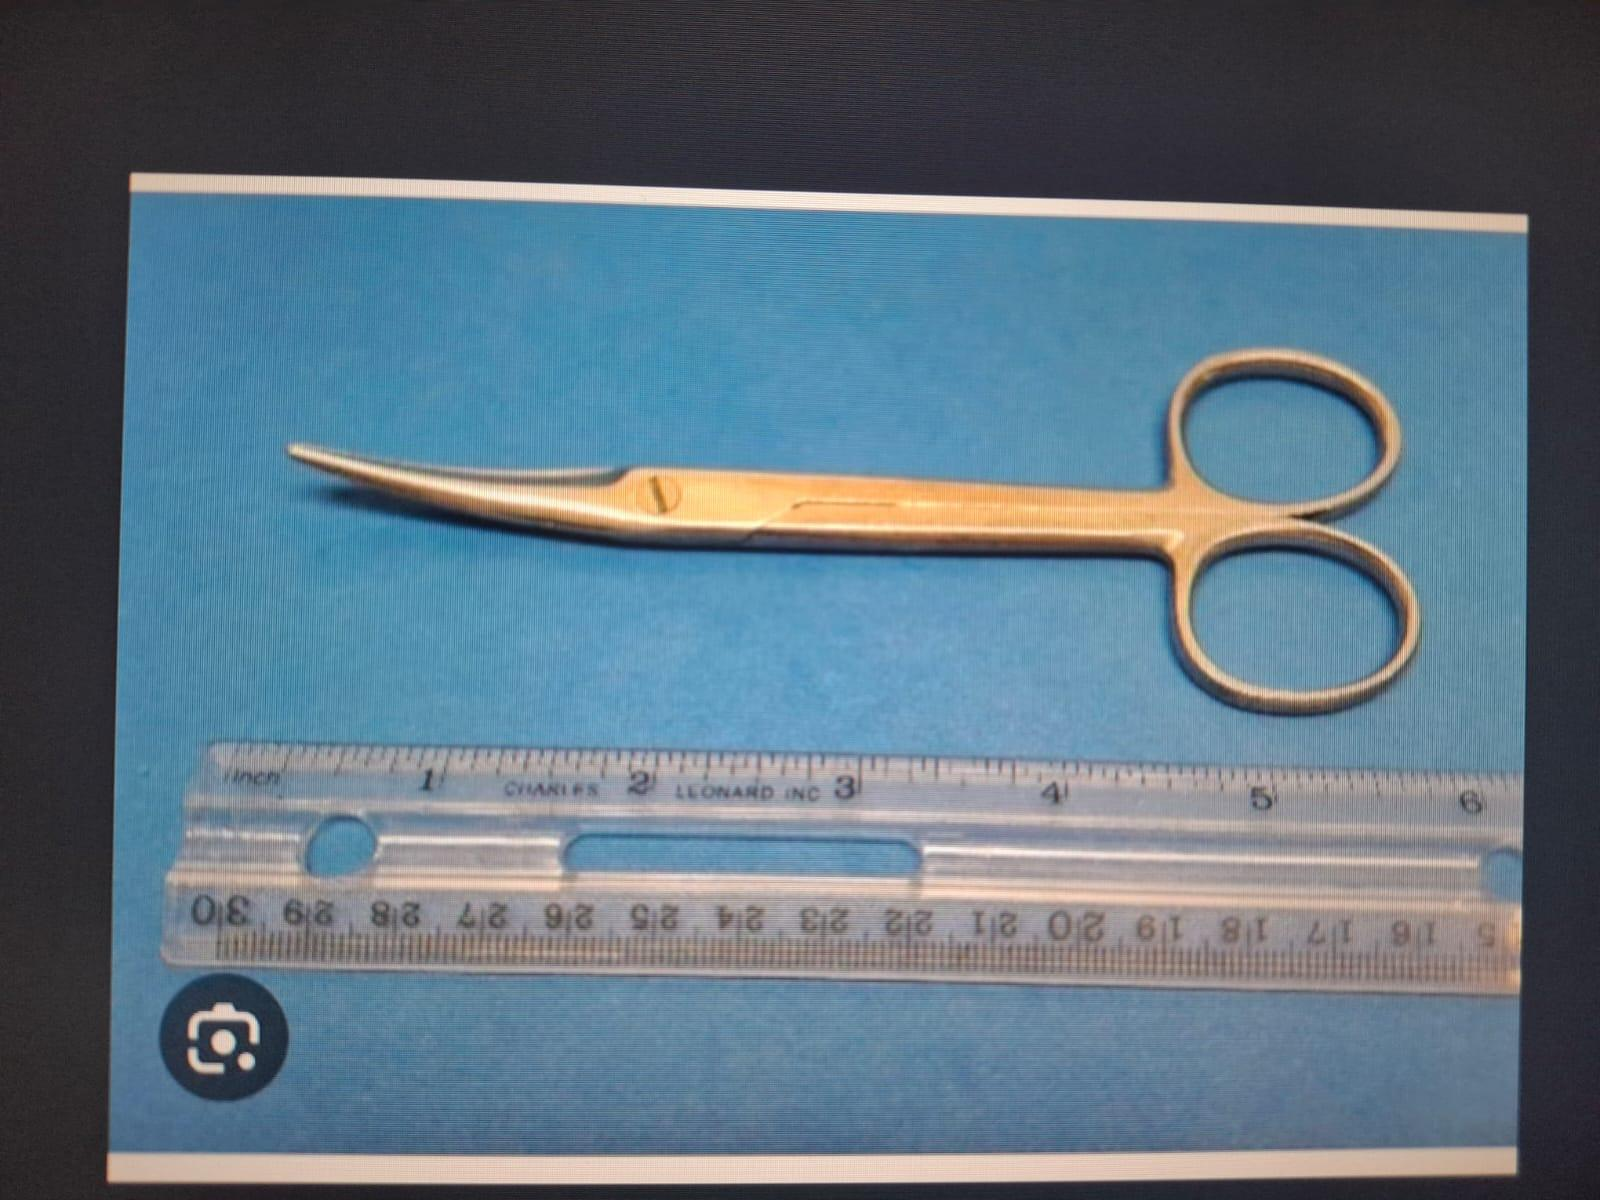Curved Mayo: (268, 322, 1432, 718)
